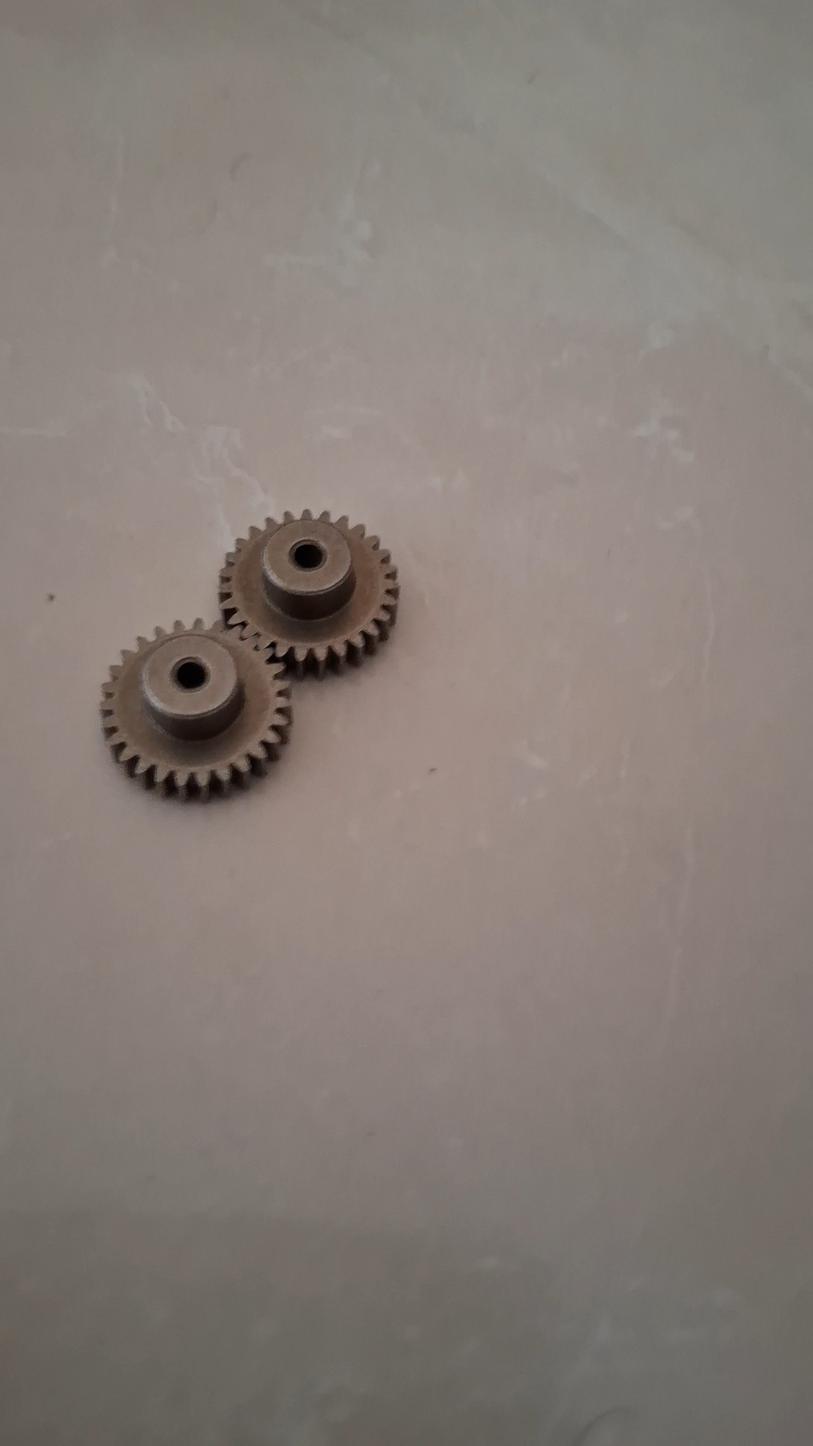spur gear: (100, 622, 291, 802), (221, 514, 401, 681)
